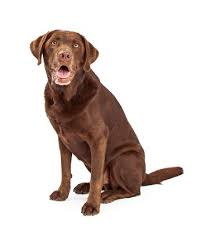dog_sitting: (27, 28, 185, 220)
